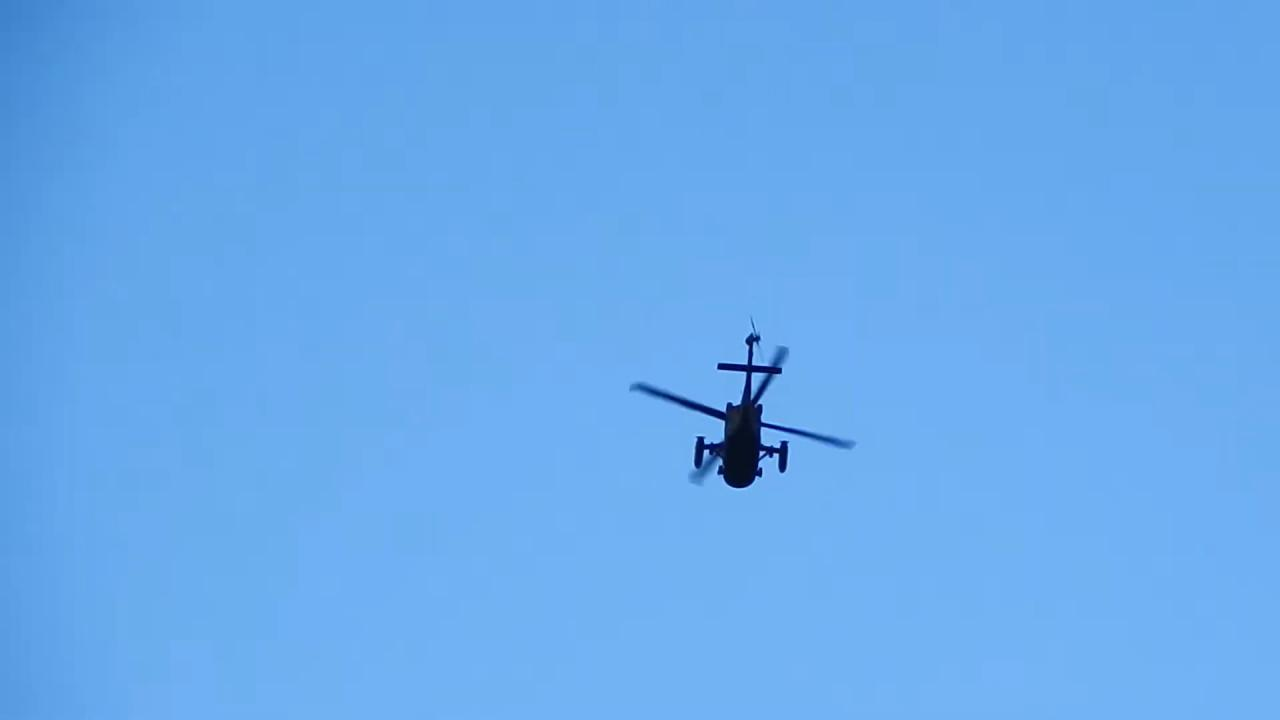Helicopter: (614, 305, 863, 495)
